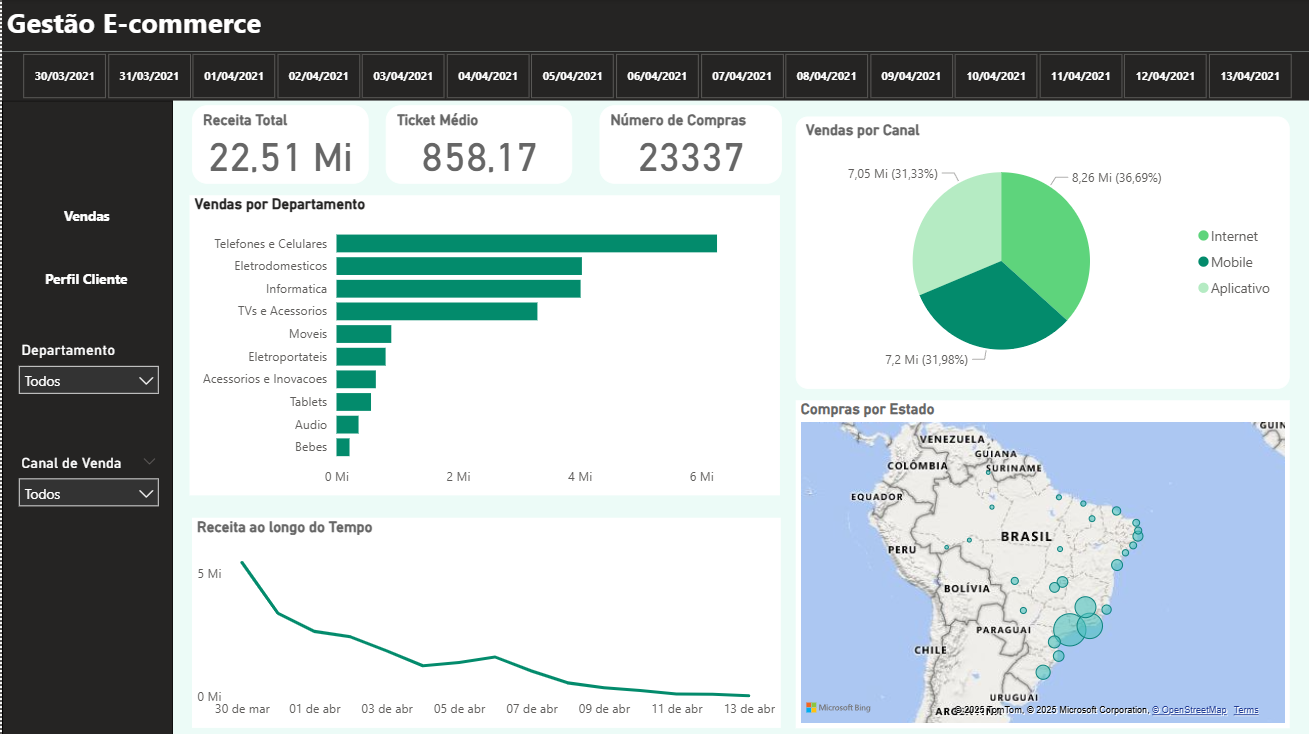

The dashboard page shown, as its layout file describes it:
{"tool":"powerbi","page":{"name":"Vendas","canvas":[1280,720],"ordinal":0},"visuals":[{"type":"shape","box":[0,99,167.5,621.2],"z":0},{"type":"textbox","box":[0,0,1280.3,51.4],"z":1000},{"type":"slicer","fields":{"Values":["base compra.Data"]},"box":[0,51.4,1280.3,47.7],"z":2000},{"type":"slicer","fields":{"Values":["base compra.canalvenda"]},"box":[5.6,439.7,157.2,79.3],"z":3000},{"type":"slicer","fields":{"Values":["base compra.Nome_Departamento"]},"box":[5.6,329.7,157.2,79.3],"z":4000},{"type":"card","title":"Receita Total","fields":{"Values":["Sum(base compra.Preço)"]},"box":[185.9,103.9,172.4,77],"z":5000},{"type":"actionButton","box":[4.2,253.2,157.2,40.3],"z":6000},{"type":"actionButton","box":[4.2,192,158.6,40.3],"z":7000},{"type":"card","title":"Ticket Médio","fields":{"Values":["Avg(base compra.Preço_com_frete)"]},"box":[375.6,104.1,182.4,77],"z":8000},{"type":"card","title":"Número de Compras","fields":{"Values":["base compra.Numero de Compras"]},"box":[584.4,104.1,178.2,77],"z":9000},{"type":"pieChart","title":"Vendas por Canal","fields":{"Category":["base compra.canalvenda"],"Y":["Sum(base compra.Preço)"]},"box":[776.5,114.9,483,266.6],"z":10000},{"type":"map","title":"Compras por Estado","fields":{"Category":["base compra.estado"],"Size":["CountNonNull(base compra.idcompra)"]},"box":[776.5,392.5,483,320.4],"z":11000},{"type":"barChart","title":"Vendas por Departamento","fields":{"Category":["base compra.Nome_Departamento"],"Y":["Sum(base compra.Preço)"]},"box":[183.9,192.4,577.3,293.6],"z":12000},{"type":"lineChart","title":"Receita ao longo do Tempo","fields":{"Category":["base compra.Data.Variation.Hierarquia de datas.Ano","base compra.Data.Variation.Hierarquia de datas.Mês","base compra.Data.Variation.Hierarquia de datas.Dia"],"Y":["Sum(base compra.Preço)"]},"box":[185.3,507.4,575.9,205.3],"z":13000}]}

Visuals, with their boxes on the page's 1280x720 design canvas (x1, y1, x2, y2). These are canvas units, not pixel positions in the 1309x734 screenshot, which may show the page scaled, cropped or inside an application window:
shape: [left=0, top=99, right=168, bottom=720]
textbox: [left=0, top=0, right=1280, bottom=51]
slicer - base compra.Data: [left=0, top=51, right=1280, bottom=99]
slicer - base compra.canalvenda: [left=6, top=440, right=163, bottom=519]
slicer - base compra.Nome_Departamento: [left=6, top=330, right=163, bottom=409]
"Receita Total" card: [left=186, top=104, right=358, bottom=181]
actionButton: [left=4, top=253, right=161, bottom=294]
actionButton: [left=4, top=192, right=163, bottom=232]
"Ticket Médio" card: [left=376, top=104, right=558, bottom=181]
"Número de Compras" card: [left=584, top=104, right=763, bottom=181]
"Vendas por Canal" pieChart: [left=776, top=115, right=1260, bottom=382]
"Compras por Estado" map: [left=776, top=392, right=1260, bottom=713]
"Vendas por Departamento" barChart: [left=184, top=192, right=761, bottom=486]
"Receita ao longo do Tempo" lineChart: [left=185, top=507, right=761, bottom=713]
